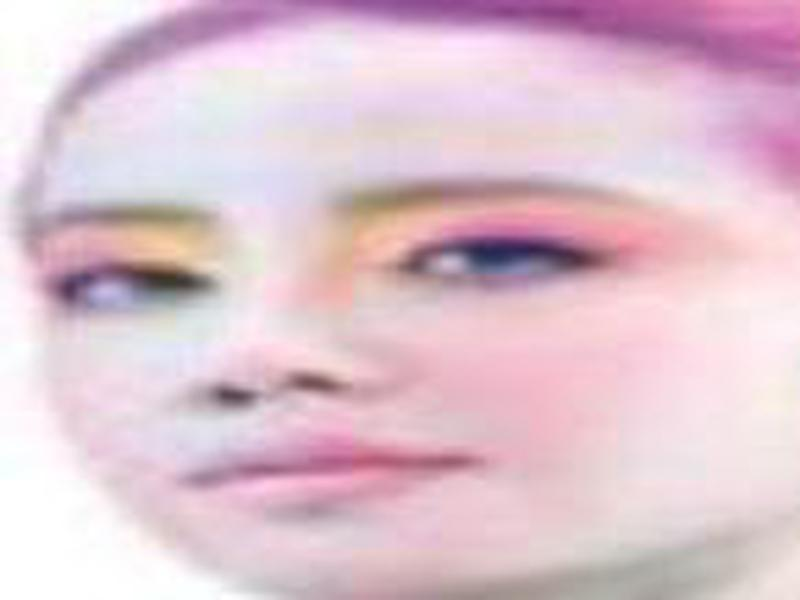without_mask: (23, 114, 800, 599)
